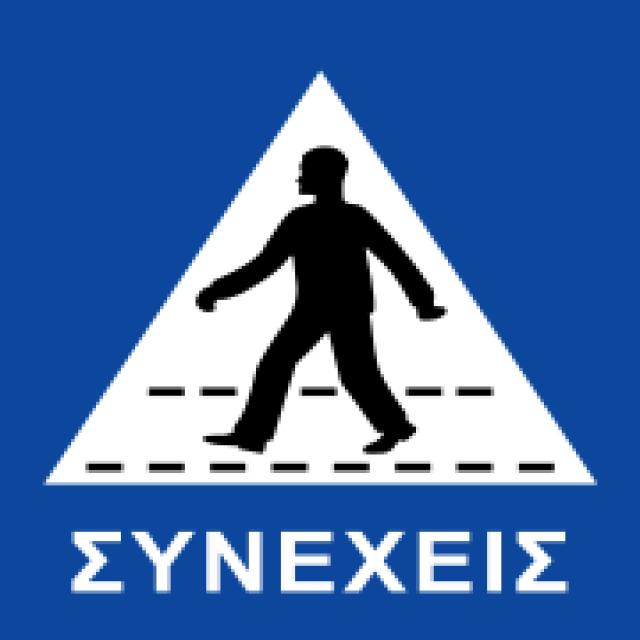Pedestrian crosswalk: (31, 41, 613, 506)
